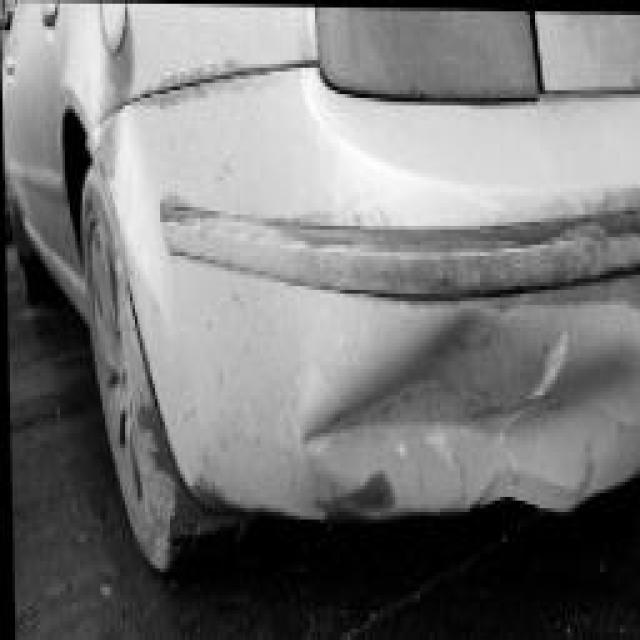Bumper: (142, 120, 640, 557)
